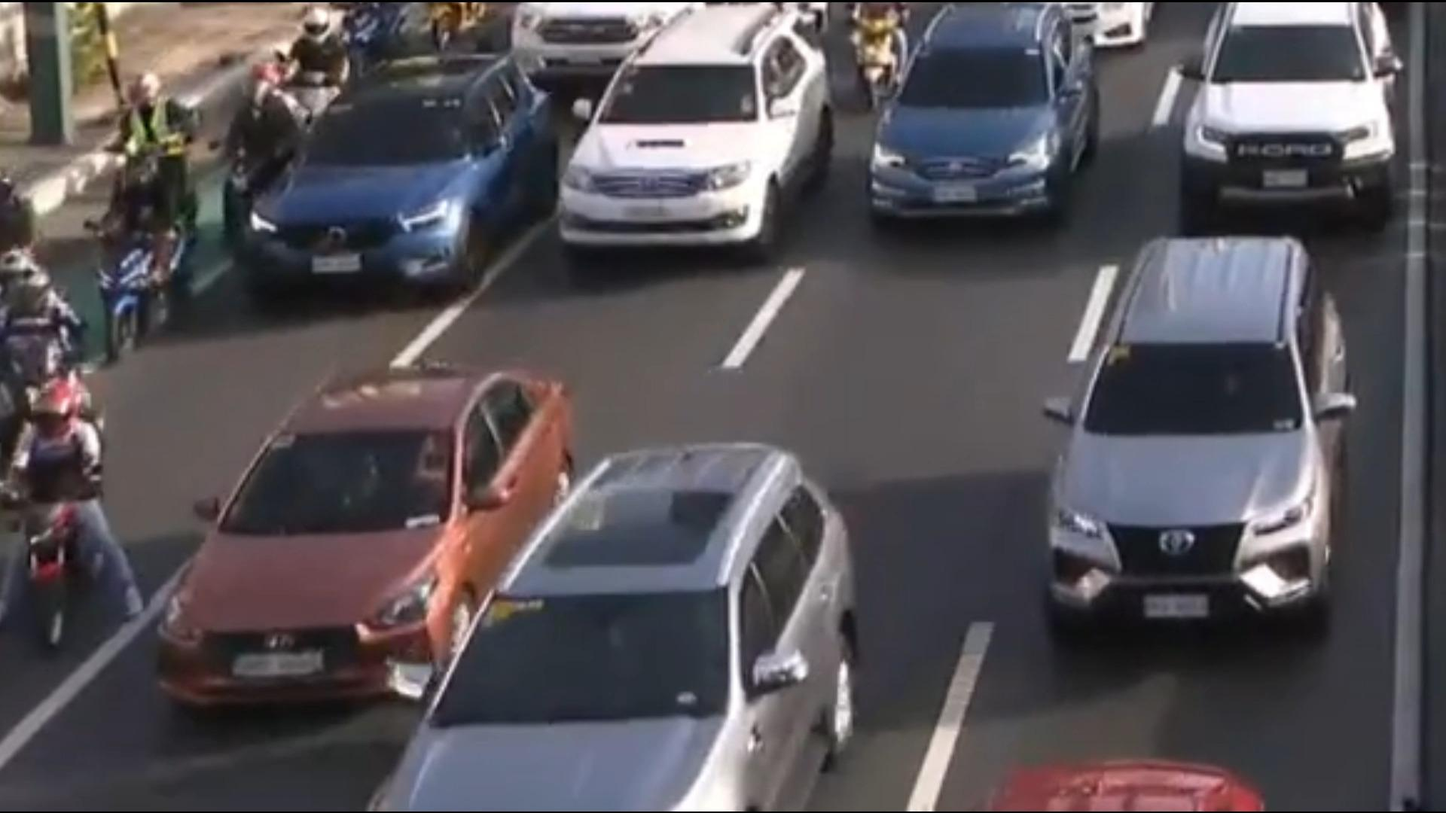SUV: (365, 446, 864, 813), (1043, 224, 1352, 650), (553, 19, 832, 260), (862, 0, 1109, 227), (1177, 0, 1400, 207)
Sedan: (154, 365, 582, 723), (243, 57, 555, 303)
